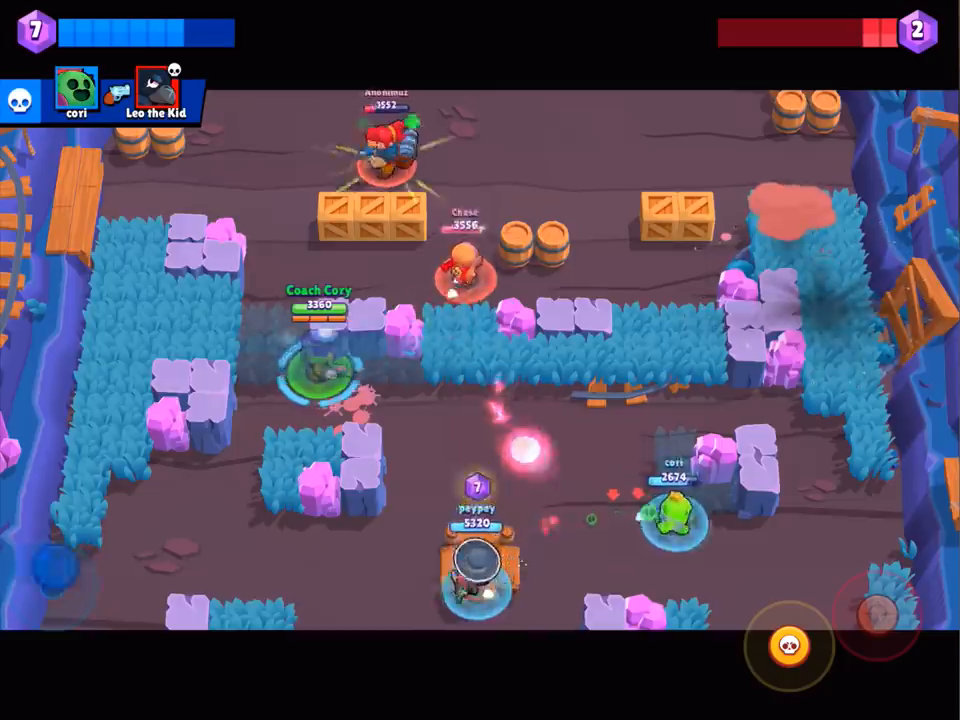move_stick: (37, 547, 77, 581)
red: (430, 214, 513, 311), (356, 93, 425, 193)
